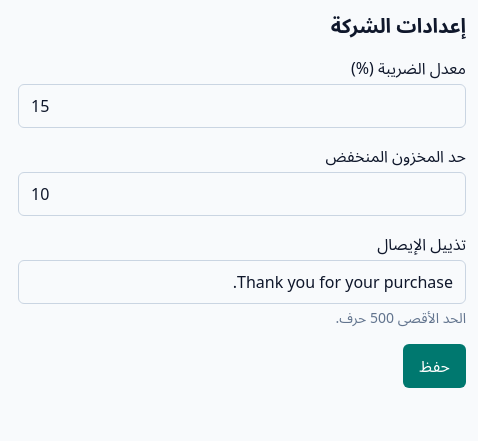
Test: SettingsPage › shows forbidden on PATCH 403 in Arabic
The image size is (478, 441).
Expected: the heading "إعدادات الشركة" is shown, [331,12,466,39]
Replace the text in the number field labelled "معدل الضريبة (%)" with "20": (242,106) [18,84,466,128]
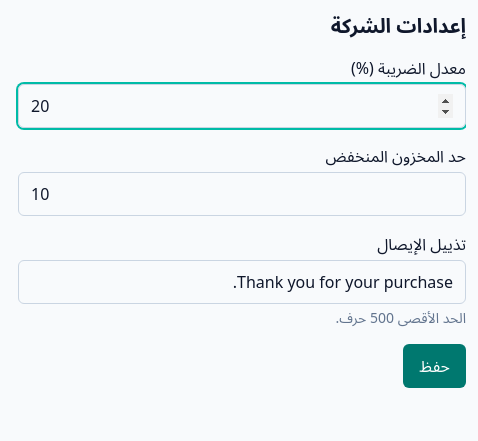
Click the button "حفظ": (435,366) [403,344,466,388]
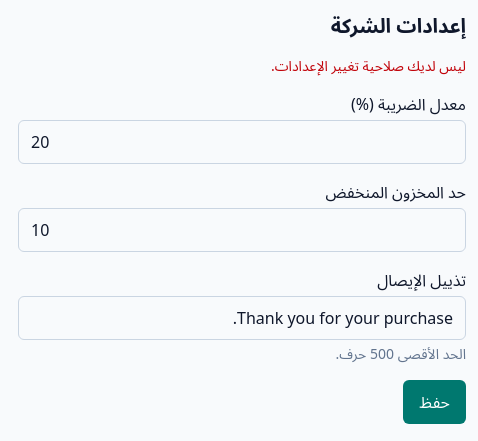
Now the message reads "ليس لديك صلاحية تغيير الإعدادات.", box [271,56,466,75]
